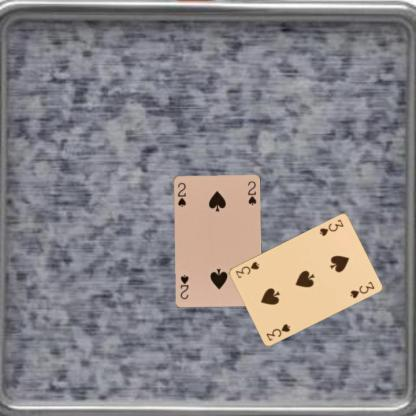2s: (175, 180, 187, 208)
3s: (264, 321, 291, 343), (317, 216, 345, 237)
